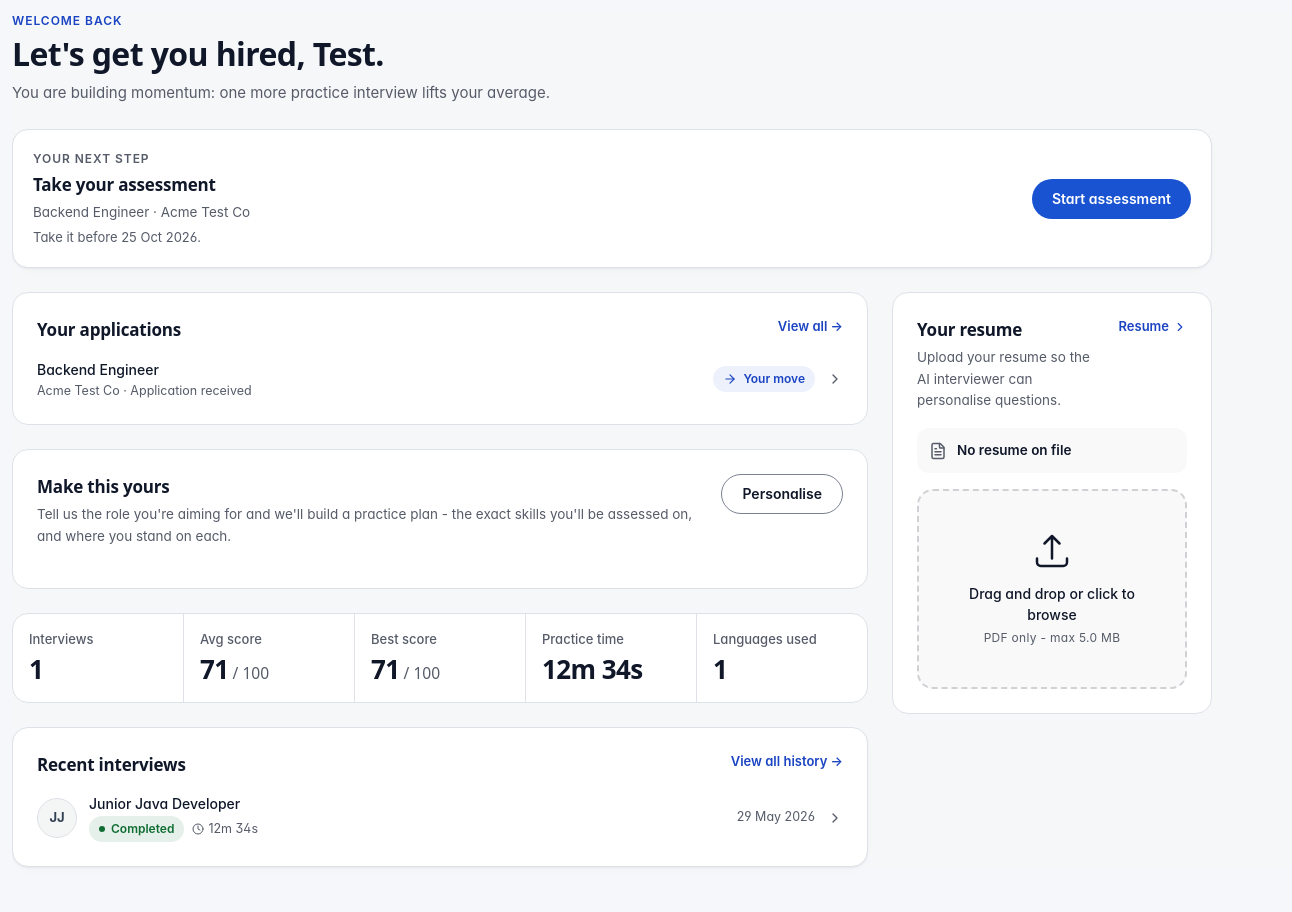
Scenario: Dashboard - an account with applications › explains a failed press instead of appearing to do nothing
The width and height of the screenshot is (1292, 912).
Step 1. Click the button "Start assessment" → (1111, 199), box [1032,179,1191,219]
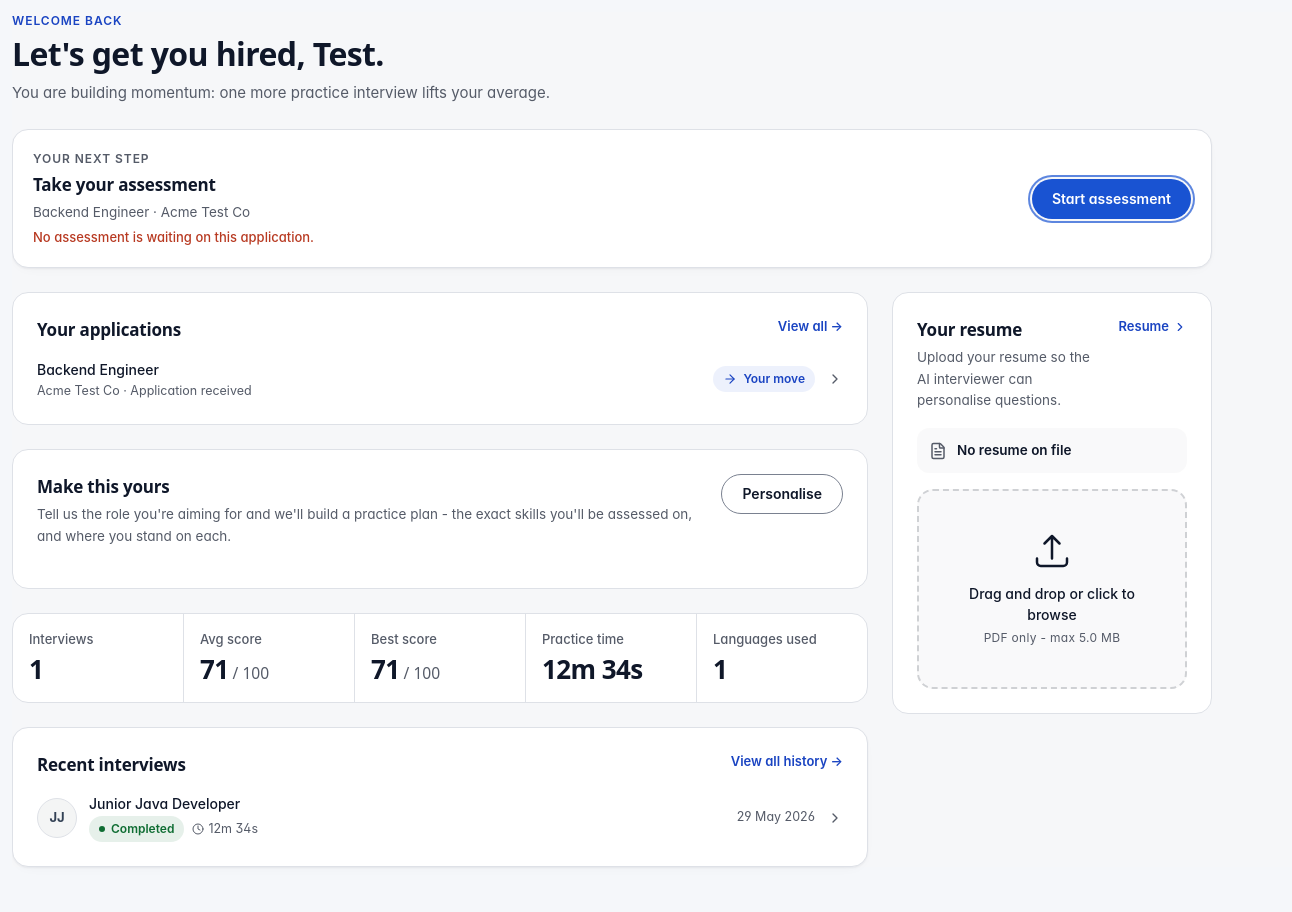
Check: the text "No assessment is waiting on this application." is shown, box [33,229,314,245]
